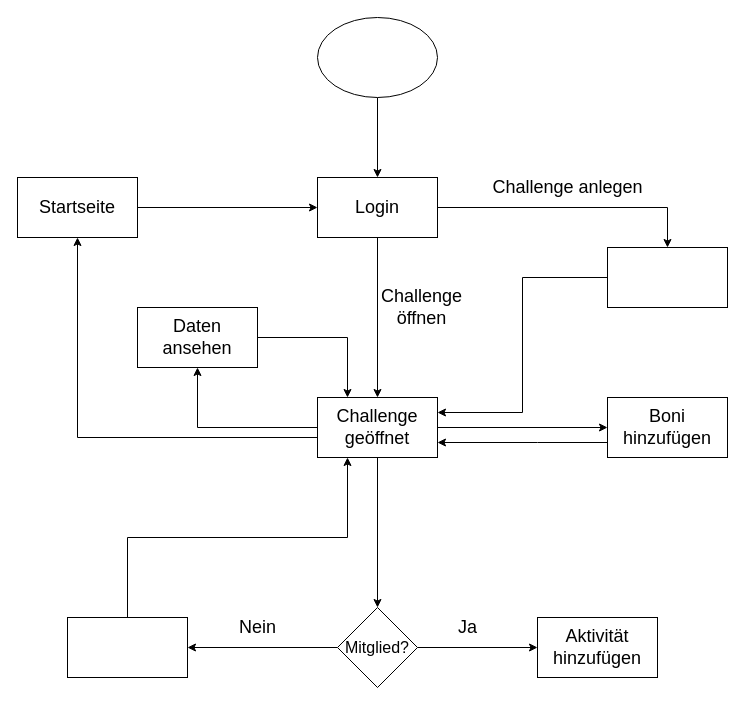
Image size: 745x705. Some labels were removed from this diagram. The shapes that lost their labels are listed below. From the top down, each one's box as (x1, y1, x2, y2) in pixels, then its label:
(316, 16, 438, 98): Start
(606, 246, 728, 308): Eigenschaften definieren
(66, 616, 188, 678): Challenge beitreten
